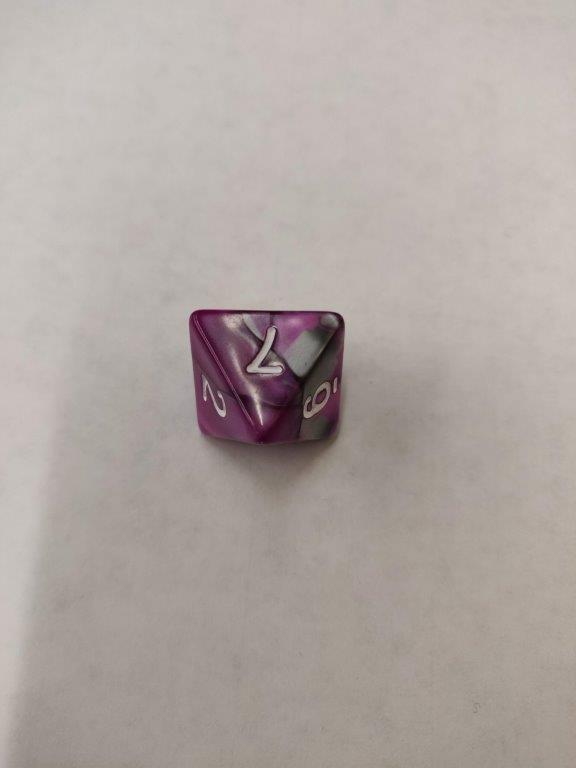d8-7: (189, 308, 344, 446)
